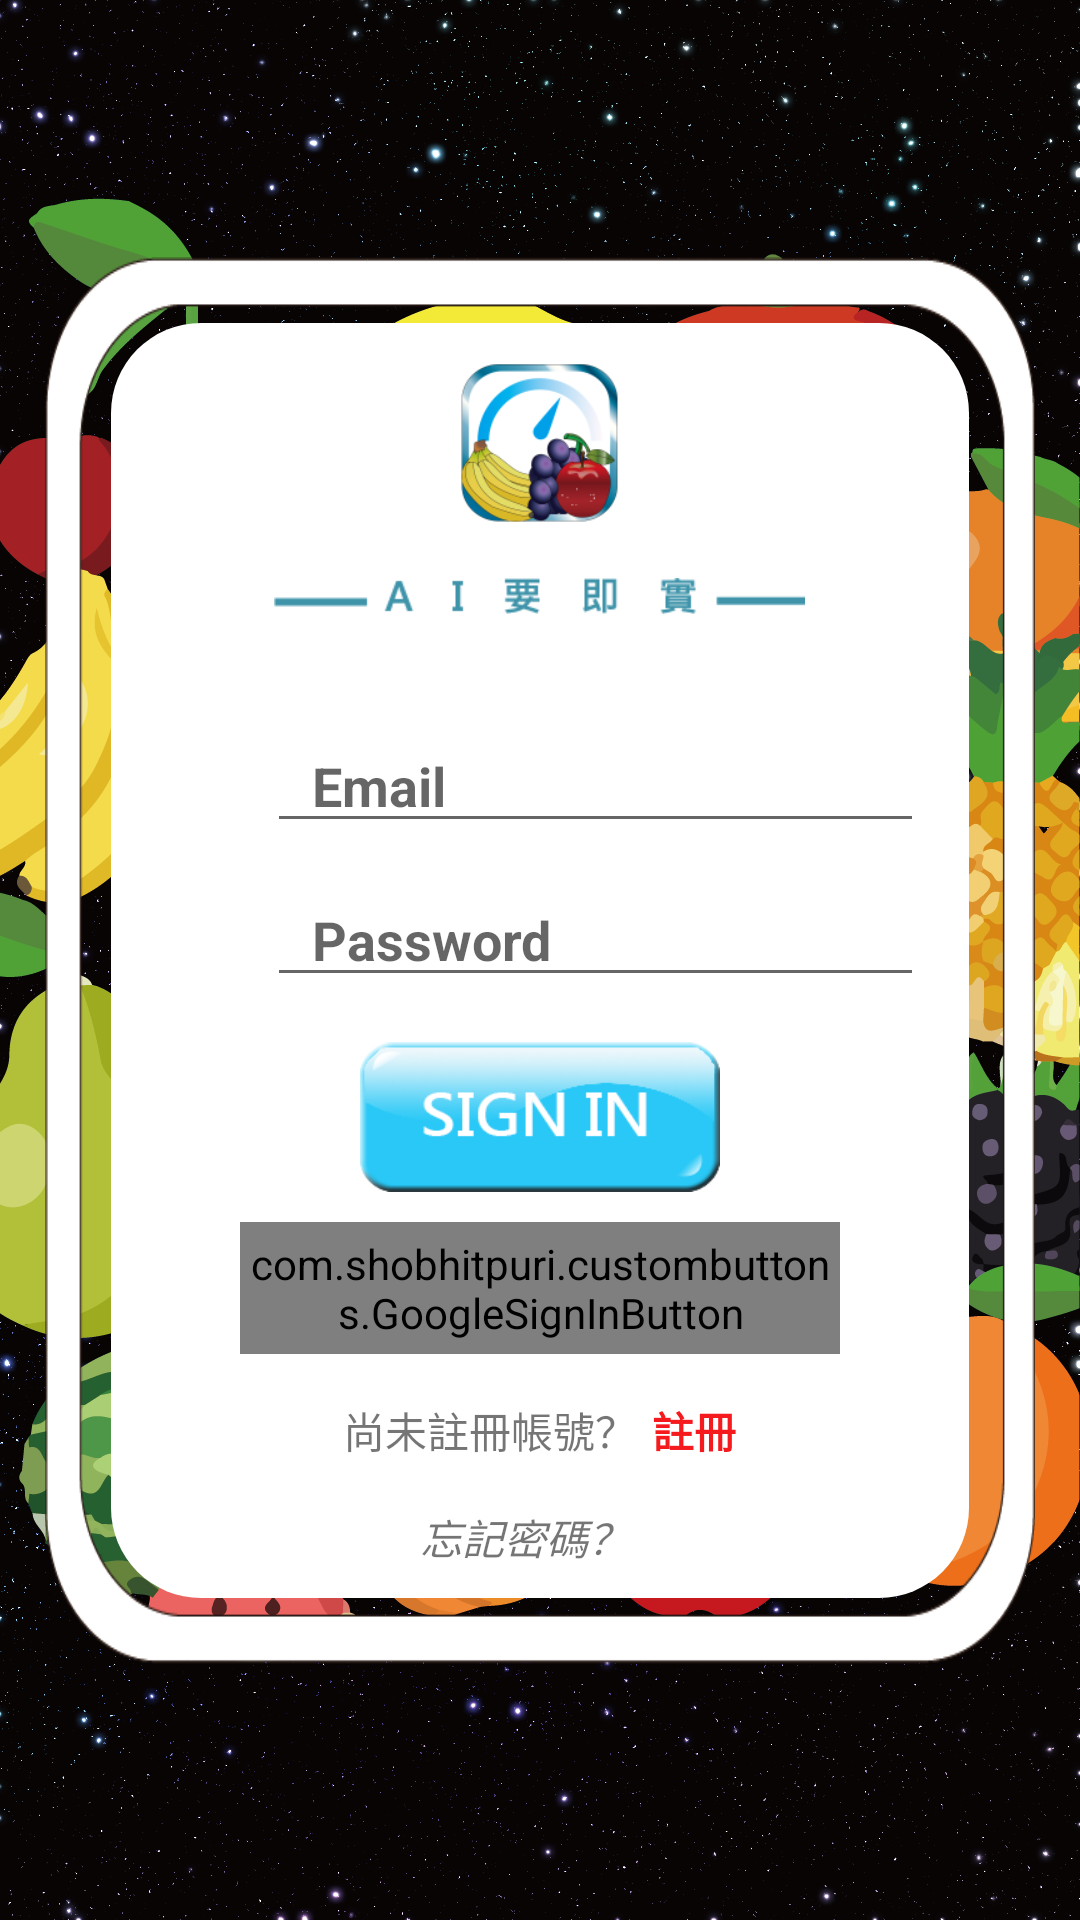

Icons on this 1080w x 1920h Android screen, each with the point to tap as point (x, y):
fruiticon: point (539, 443)
